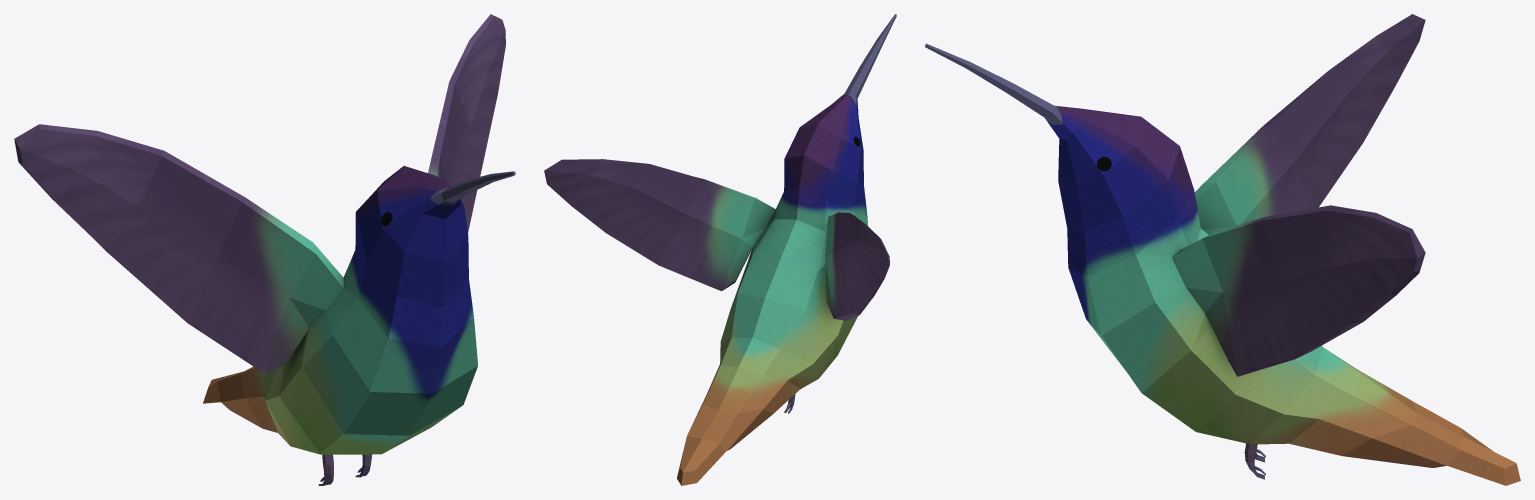
File: Hummingbird.obj
The picture shows the model from 3 angles, left to right: view 1: azimuth 30°, elevation 25°; view 2: azimuth 150°, elevation 25°; view 3: azimuth 270°, elevation 25°; orthographic projection. The views are drawn at different scales.
Visible parts, largest first — view 1: Hummingbird_Mesh; view 2: Hummingbird_Mesh; view 3: Hummingbird_Mesh.
Part boxes in pixels (x1,y1,x2,y2): Hummingbird_Mesh: (14, 14, 515, 485); Hummingbird_Mesh: (544, 14, 896, 485); Hummingbird_Mesh: (925, 14, 1520, 485).
Bounding box in the file's own units: 2.11 × 1.85 × 2.28.
